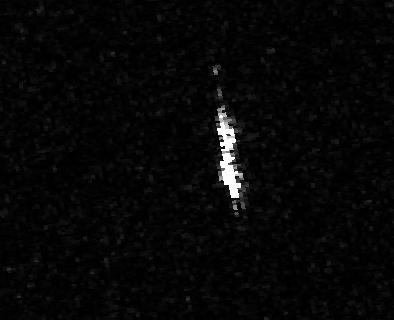ship: (213, 108, 245, 202)
